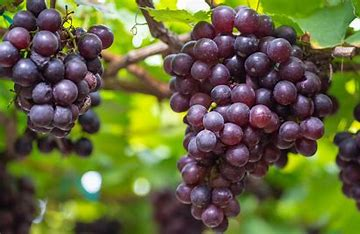grape: (168, 7, 328, 154), (12, 14, 101, 133)
